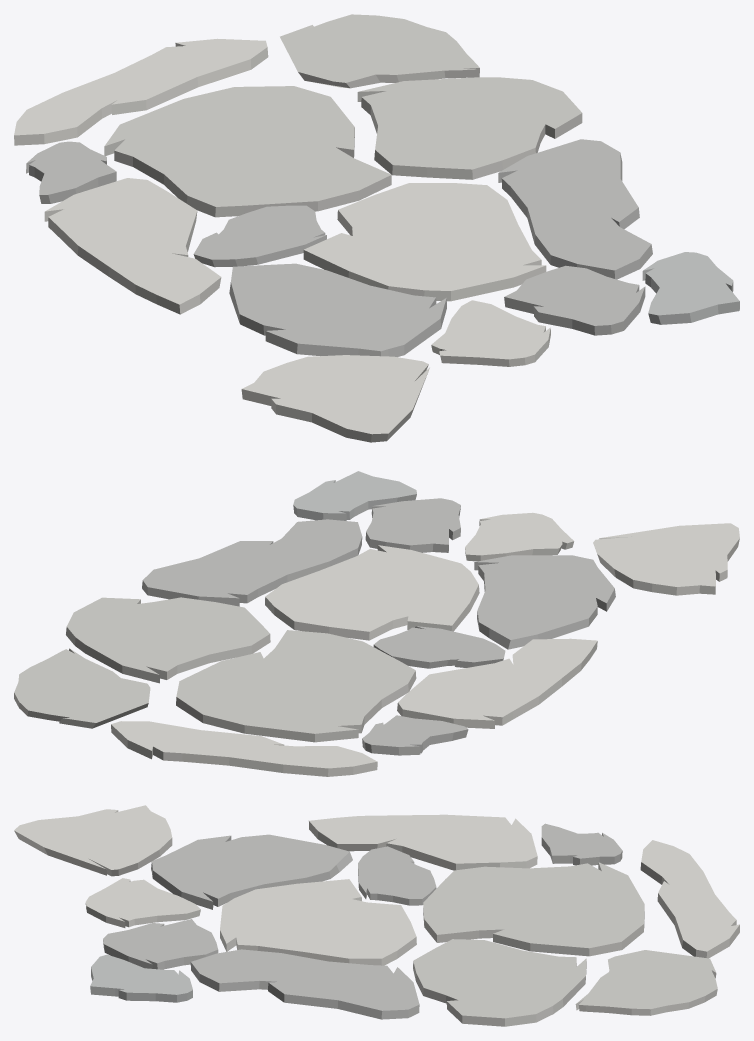
File: path-type-001.obj
3 renders of one model, top to bottom at view 1: azimuth 30°, elevation 25°; view 2: azimuth 150°, elevation 25°; view 3: azimuth 270°, elevation 25°, orthographic. The views are drawn at different scales.
Visible parts, largest first — view 1: path-type-001; view 2: path-type-001; view 3: path-type-001.
Boxes of the visible parts, x1,y1,x2,y2 form: path-type-001: [14, 14, 739, 442]; path-type-001: [14, 471, 739, 776]; path-type-001: [14, 805, 739, 1026].
Size of the model in its own units: 1.27 by 0.0226 by 1.82.
